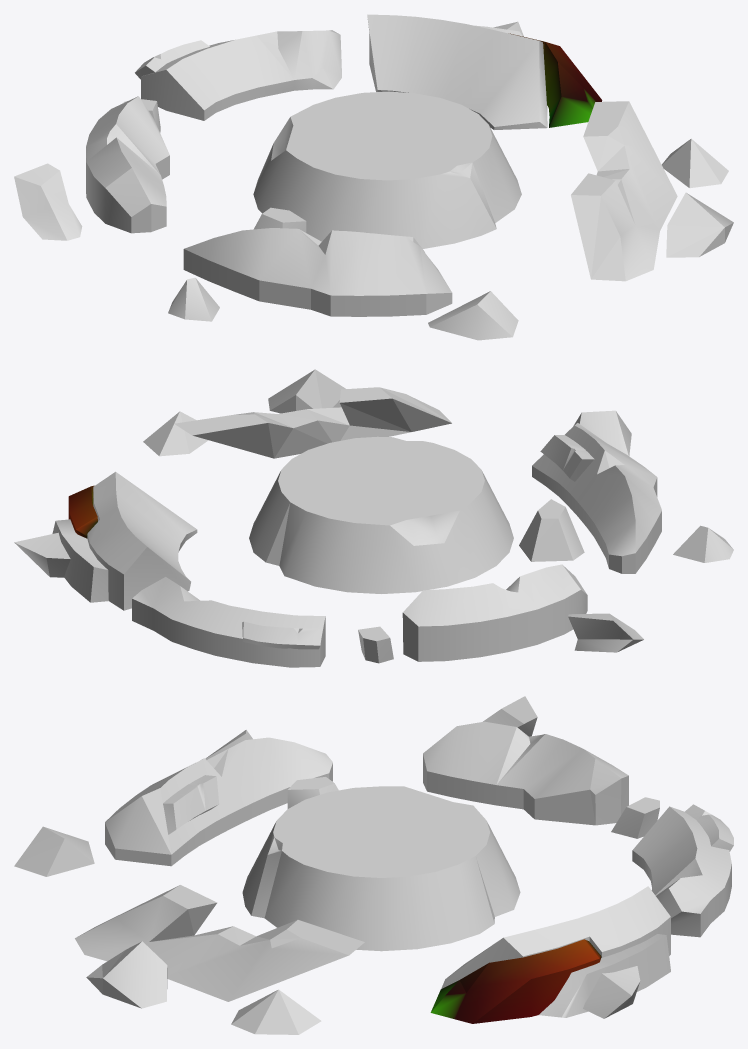
The model's file is stone.FBX.
3 views of the same model, one above another, from view 1: azimuth 30°, elevation 25°; view 2: azimuth 150°, elevation 25°; view 3: azimuth 270°, elevation 25° (orthographic). The views are drawn at different scales.
Visible parts, largest first — view 1: stone01, stone02, stone08, stone11, stone03, stone05, stone06, stone12, stone10, stone13, stone09, stone07; view 2: stone01, stone02, stone05, stone08, stone03, stone11, stone07, stone06, stone12, stone13, stone10, stone09 (+1 smaller); view 3: stone01, stone02, stone11, stone08, stone05, stone03, stone12, stone13, stone10, stone04, stone06, stone07.
Boxes of the visible parts, x1,y1,x2,y2 form: stone01: (253, 91, 521, 248); stone02: (367, 14, 602, 129); stone08: (183, 228, 452, 316); stone11: (571, 101, 677, 281); stone03: (135, 30, 341, 120); stone05: (86, 96, 169, 233); stone06: (14, 163, 82, 240); stone12: (666, 192, 733, 257); stone10: (428, 291, 518, 340); stone13: (662, 138, 728, 188); stone09: (168, 277, 219, 321); stone07: (254, 207, 306, 232); stone01: (249, 436, 513, 593); stone02: (14, 471, 197, 610); stone05: (402, 564, 587, 661); stone08: (532, 423, 661, 573); stone03: (132, 577, 325, 667); stone11: (174, 387, 451, 458); stone07: (519, 499, 584, 561); stone06: (568, 613, 643, 652); stone12: (268, 369, 345, 413); stone13: (143, 411, 208, 456); stone10: (573, 410, 631, 455); stone09: (673, 525, 733, 562); stone01: (242, 786, 520, 951); stone02: (430, 886, 670, 1023); stone11: (75, 885, 364, 1001); stone08: (105, 737, 332, 866); stone05: (423, 721, 628, 825); stone03: (632, 804, 733, 937); stone12: (86, 941, 167, 1008); stone13: (231, 989, 321, 1034); stone10: (14, 826, 94, 876); stone04: (611, 797, 659, 838); stone06: (483, 696, 537, 736); stone07: (287, 777, 338, 808).
Bounding box in the file's own units: 234 × 24.2 × 239.
